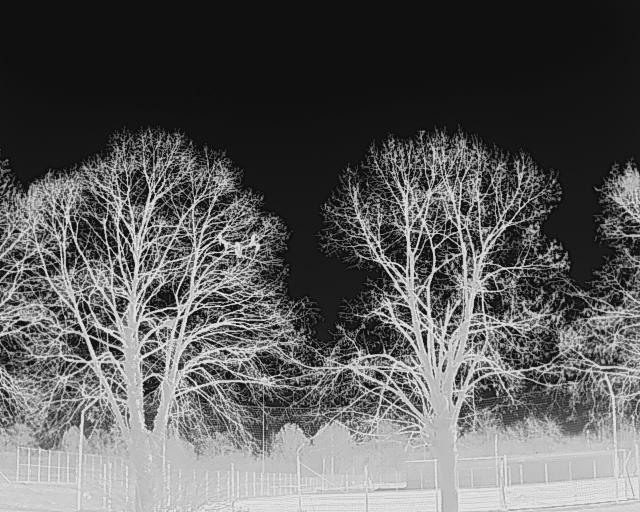drone: (210, 228, 267, 267)
